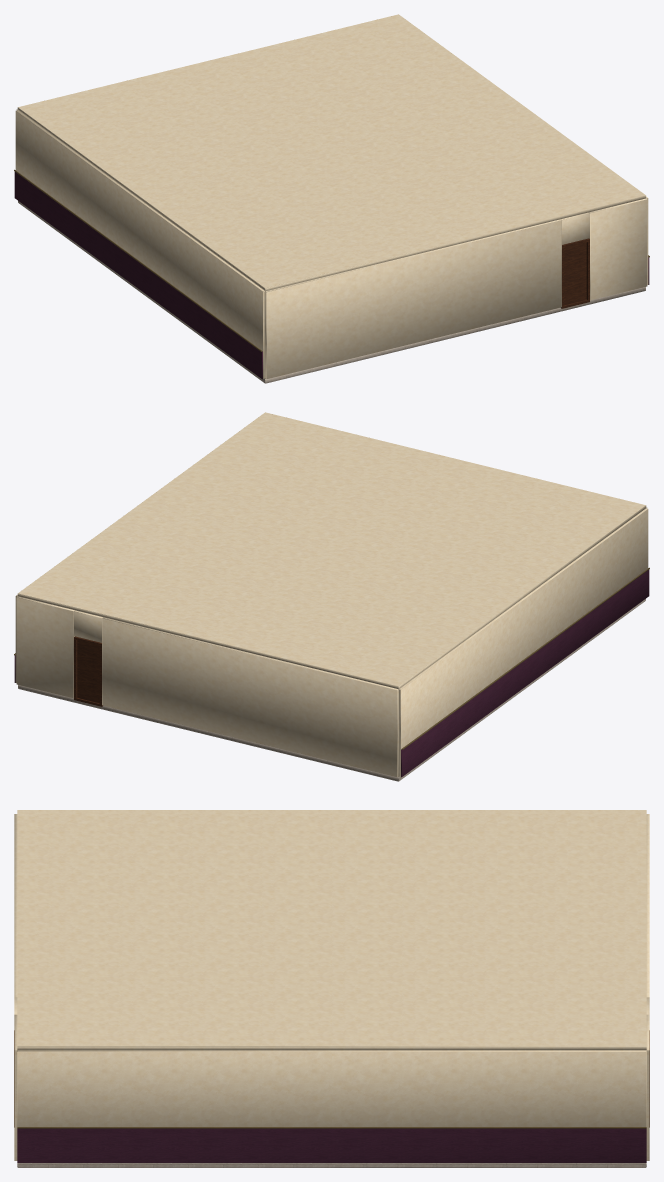
Rendered from explore3d__mirror_maze.glb.
3 views of the same model, one above another, from view 1: azimuth 30°, elevation 25°; view 2: azimuth 150°, elevation 25°; view 3: azimuth 270°, elevation 25° (orthographic). The views are drawn at different scales.
Visible parts, largest first — view 1: Rebuilt_mirror_maze; view 2: Rebuilt_mirror_maze; view 3: Rebuilt_mirror_maze.
Boxes of the visible parts, left/top/right/bottom form: Rebuilt_mirror_maze: left=14, top=14, right=649, bottom=383; Rebuilt_mirror_maze: left=14, top=412, right=649, bottom=781; Rebuilt_mirror_maze: left=14, top=810, right=649, bottom=1167.
Size of the model in its own units: 16.32 by 3.84 by 18.19.
12 materials, 10 textured.
